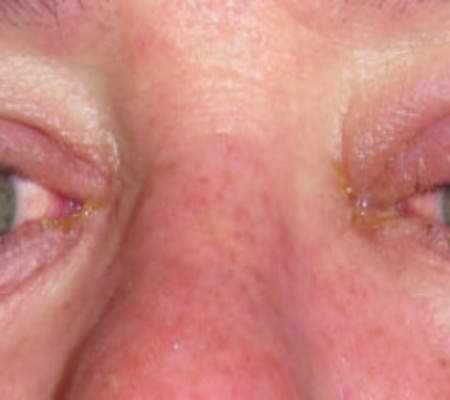SJS-TEN: (327, 149, 424, 259)
